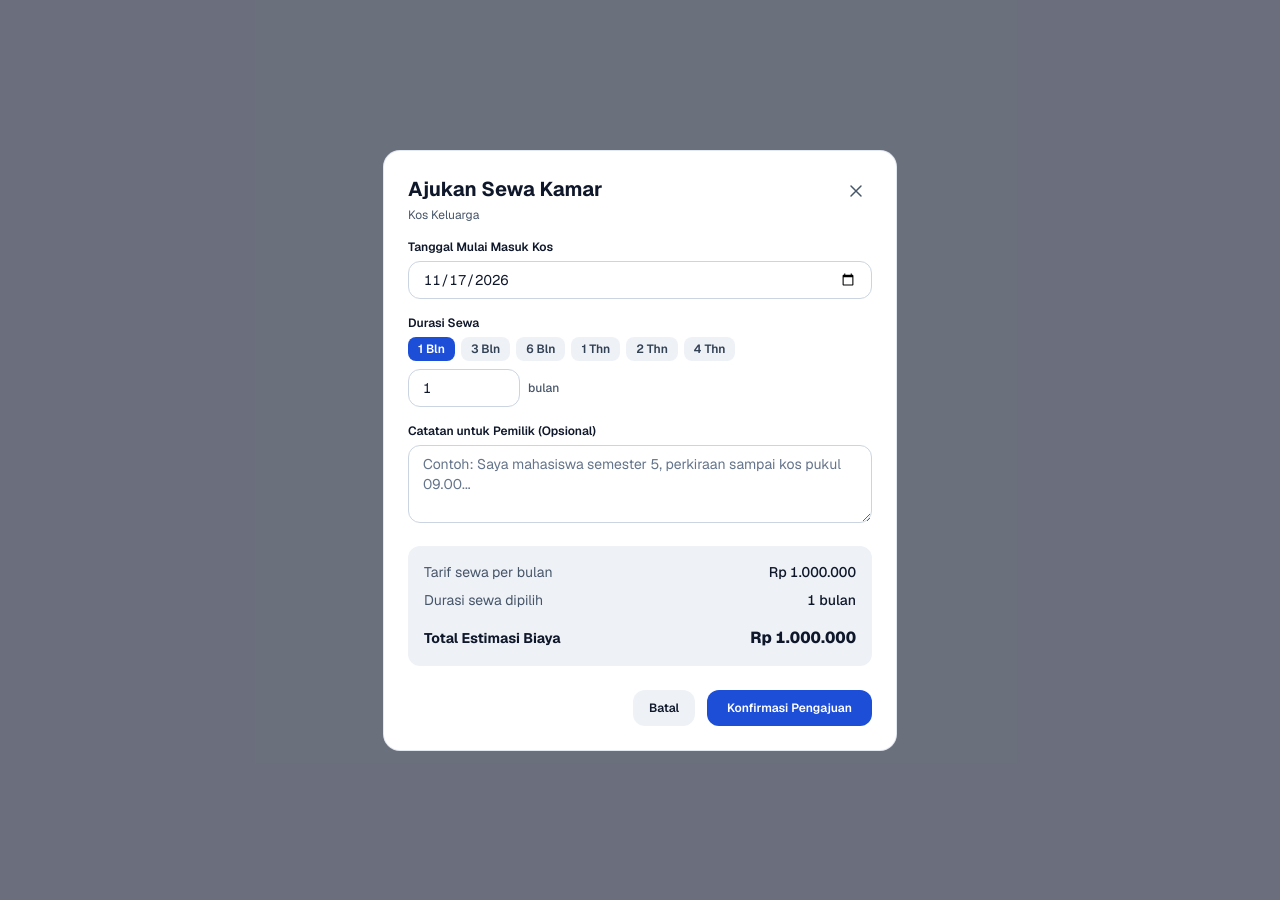
it: Complex frontend edge-case tests › BookingModal supports long-term durations (> 60 months) and preset year chips
This screenshot has width=1280, height=900.
Later steps or results of the test are not shown.
Click the button "4 Thn" at (710, 348), box [684,336,735,360]
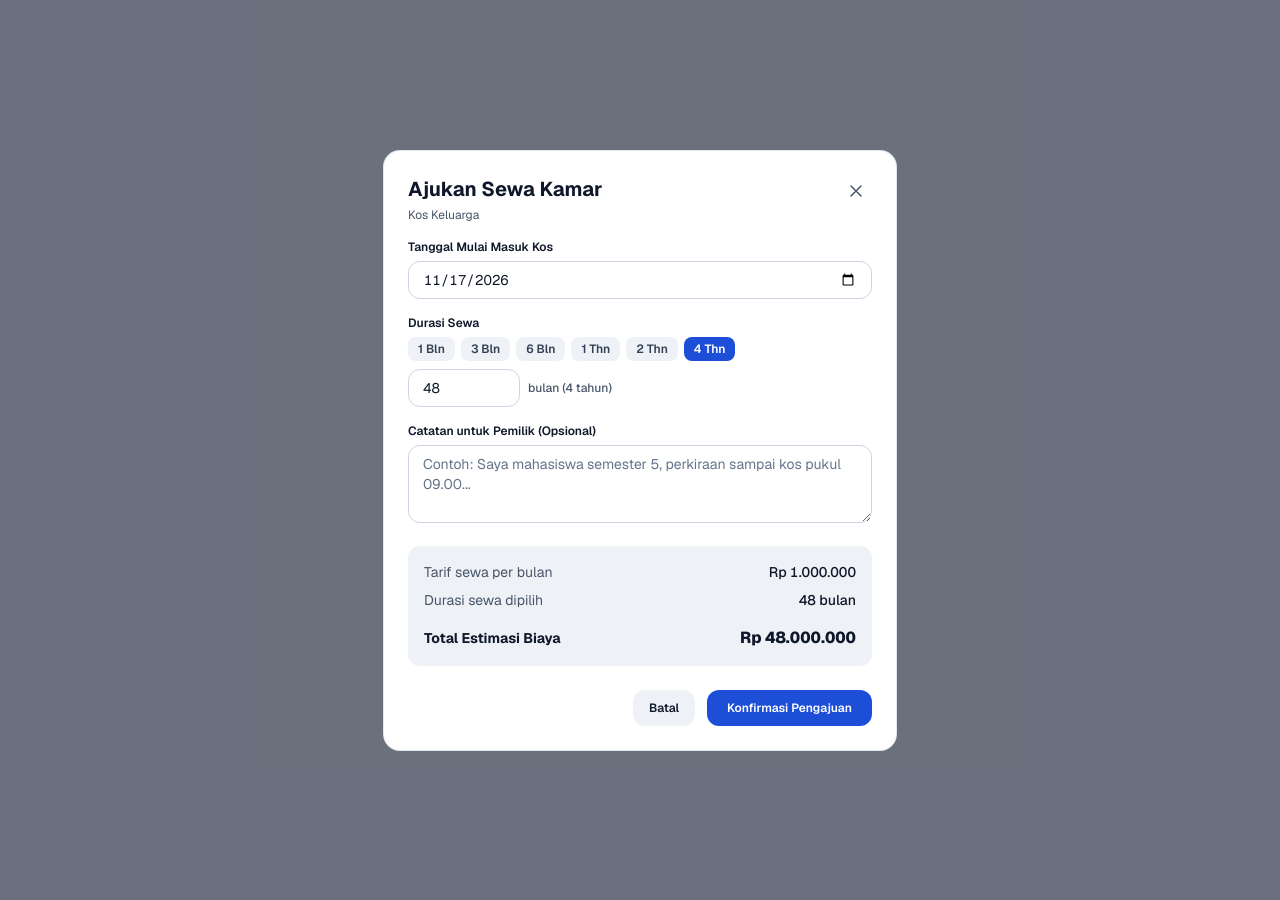
Result: the number field labelled "Durasi Sewa" holds "48"
Result: the text "48 bulan" is shown at [799,590,856,610]
Replace the text in the number field labelled "Durasi Sewa" with "72" at (464, 388), box [408,368,520,406]
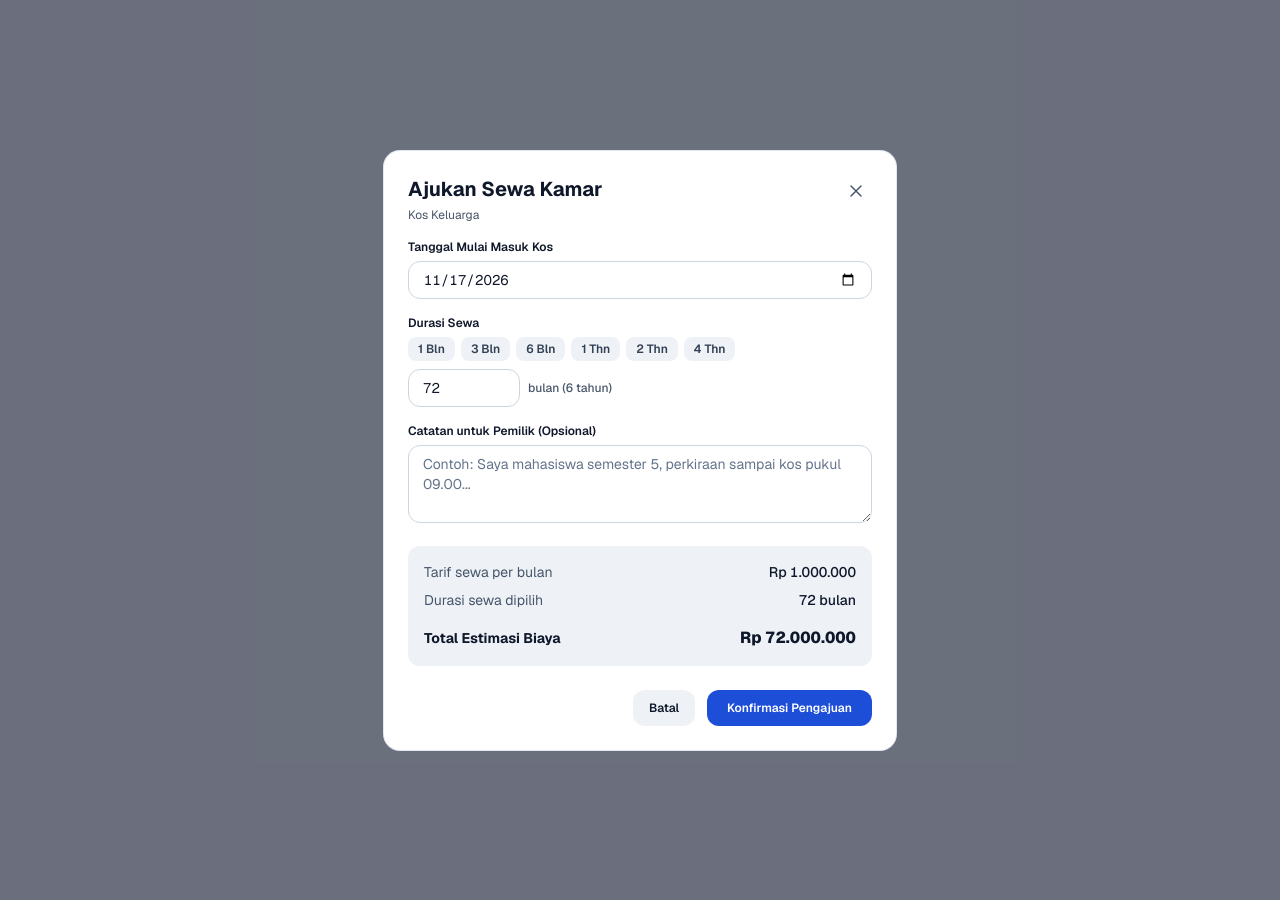
Result: the text "72 bulan" is shown at [799,590,856,610]
Result: the text "bulan (6 tahun)" is shown at [528,380,612,396]
